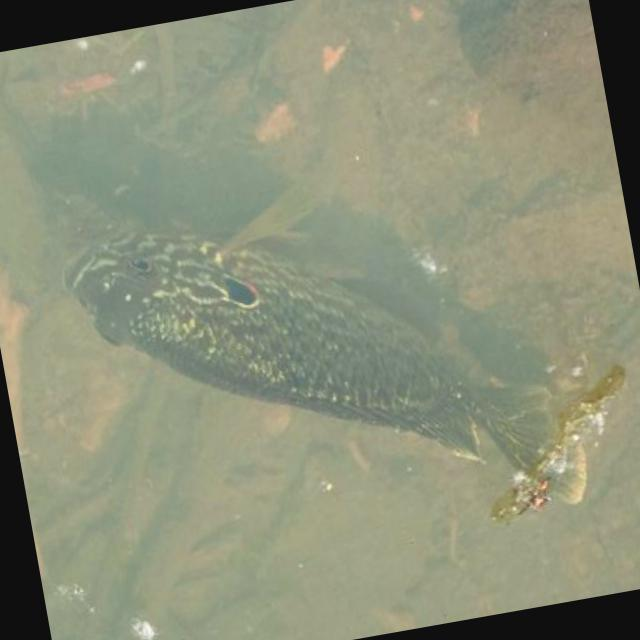Gunes Levregi: (48, 144, 604, 588)
